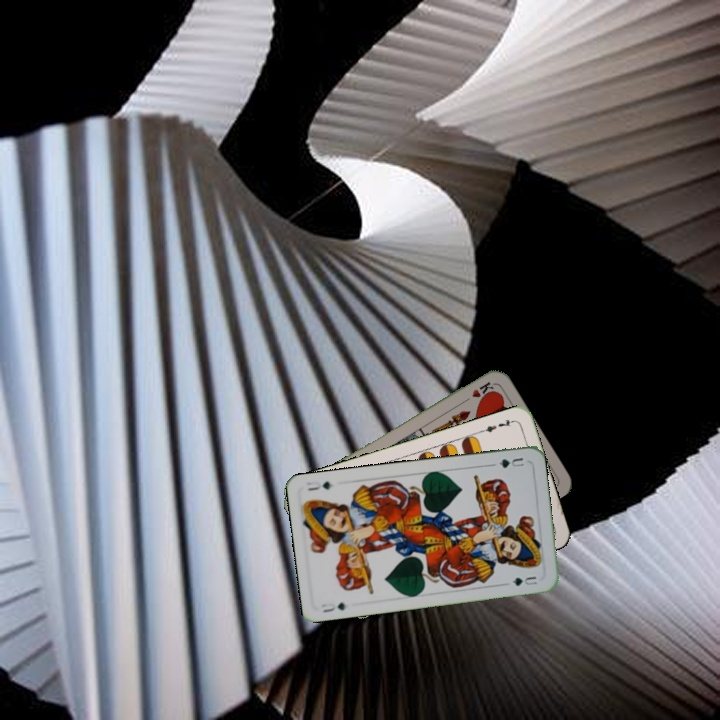E7: (477, 415, 517, 435)
GU: (495, 453, 527, 471), (318, 598, 349, 615)
HK: (458, 378, 496, 406)
